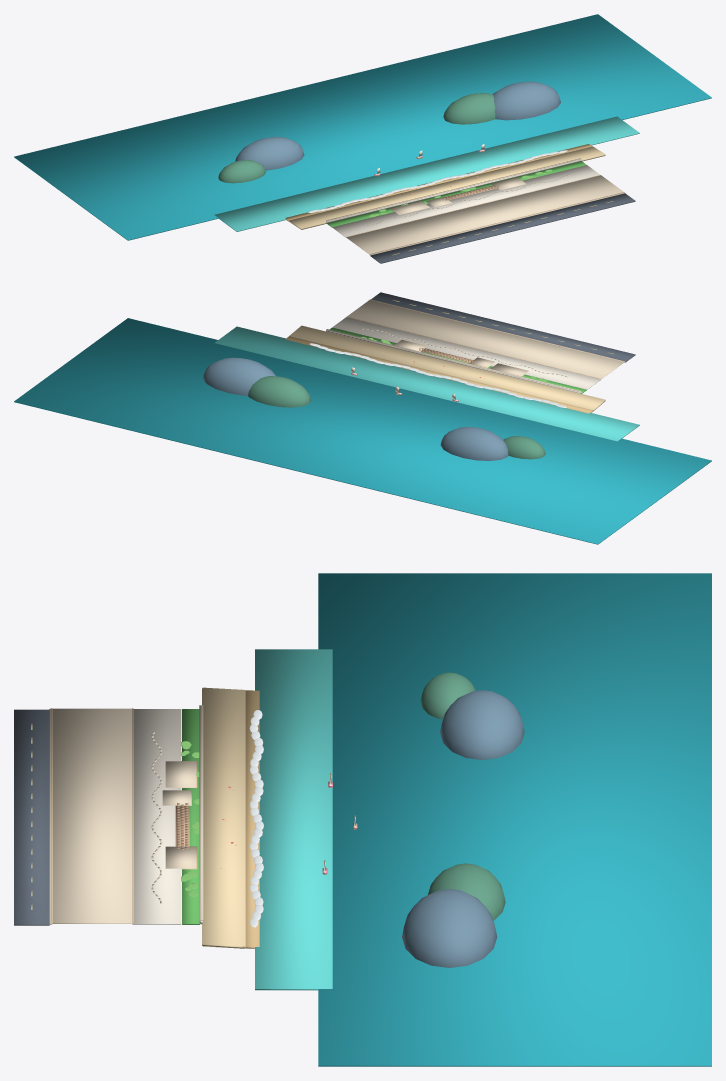
The model's file is OrlaEnvironmentBase.fbx.
3 views of the same model, one above another, from view 1: azimuth 30°, elevation 25°; view 2: azimuth 150°, elevation 25°; view 3: azimuth 270°, elevation 25° (orthographic). The views are drawn at different scales.
Parts seen in each view (by area): view 1: OrlaEnvironmentBase; view 2: OrlaEnvironmentBase; view 3: OrlaEnvironmentBase.
Boxes of the visible parts, x1,y1,x2,y2 form: OrlaEnvironmentBase: (14, 14, 711, 263); OrlaEnvironmentBase: (14, 292, 711, 544); OrlaEnvironmentBase: (14, 573, 711, 1066).
Bounding box in the file's own units: 142 × 10.4 × 85.12.
